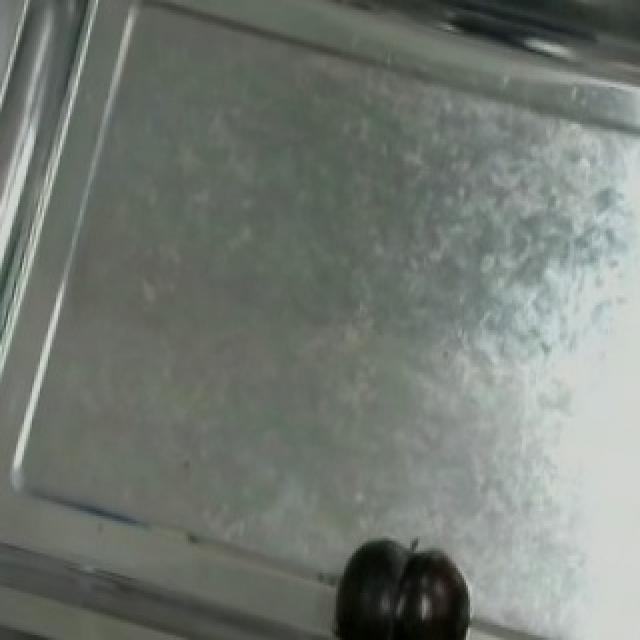Fruit: (322, 528, 480, 640)
